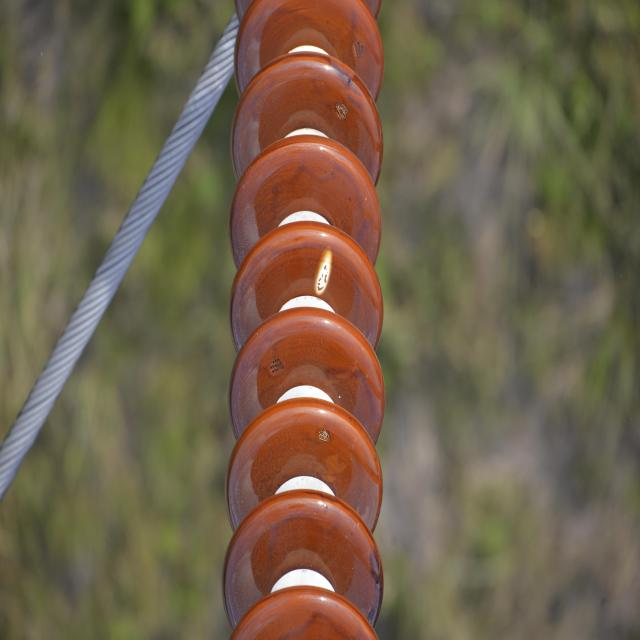insulator: (223, 0, 387, 640)
